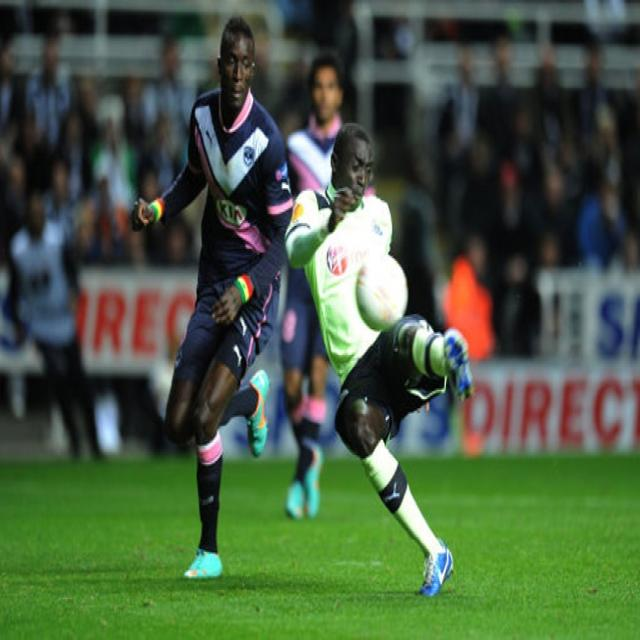body: (0, 0, 639, 370), (124, 8, 297, 586), (280, 115, 478, 602), (278, 52, 348, 526), (7, 193, 106, 464)
